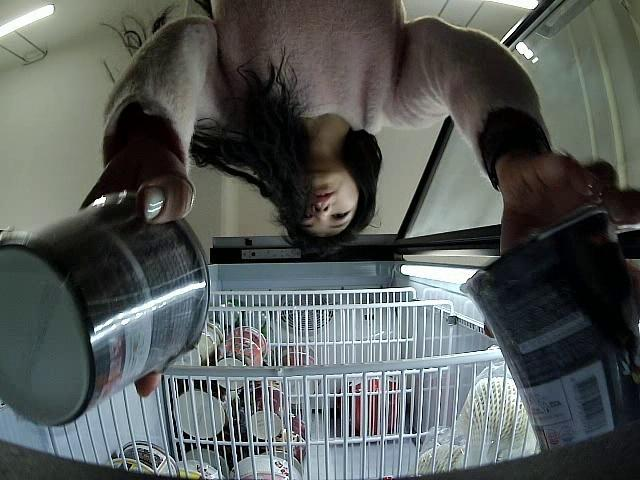08_buldak_S: (0, 192, 211, 427), (459, 202, 640, 454)
